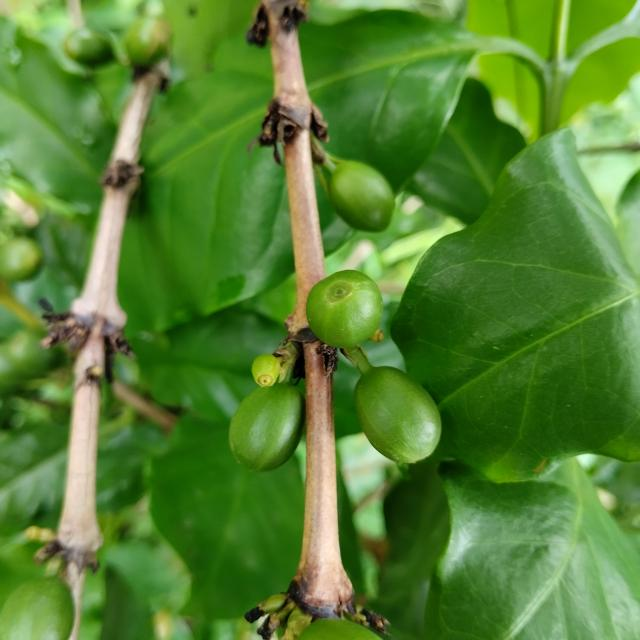green: (355, 366, 442, 464), (229, 382, 304, 472), (306, 270, 384, 349), (329, 160, 395, 231)
